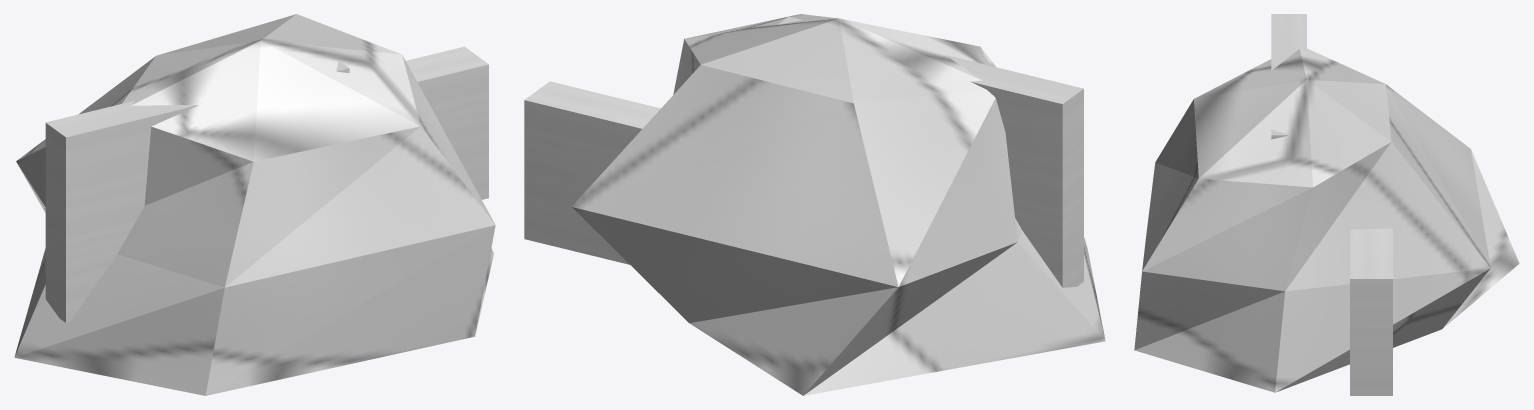
Rendered from slag_2.obj.
3 renders of one model, left to right at view 1: azimuth 30°, elevation 25°; view 2: azimuth 150°, elevation 25°; view 3: azimuth 270°, elevation 25°, orthographic. The views are drawn at different scales.
Visible parts, largest first — view 1: slag_2; view 2: slag_2; view 3: slag_2.
Part boxes in pixels (<box>): slag_2: <box>14,14,495,395</box>; slag_2: <box>524,14,1105,395</box>; slag_2: <box>1134,14,1519,395</box>.
Bounding box in the file's own units: 0.7112 × 0.34 × 0.5373.
